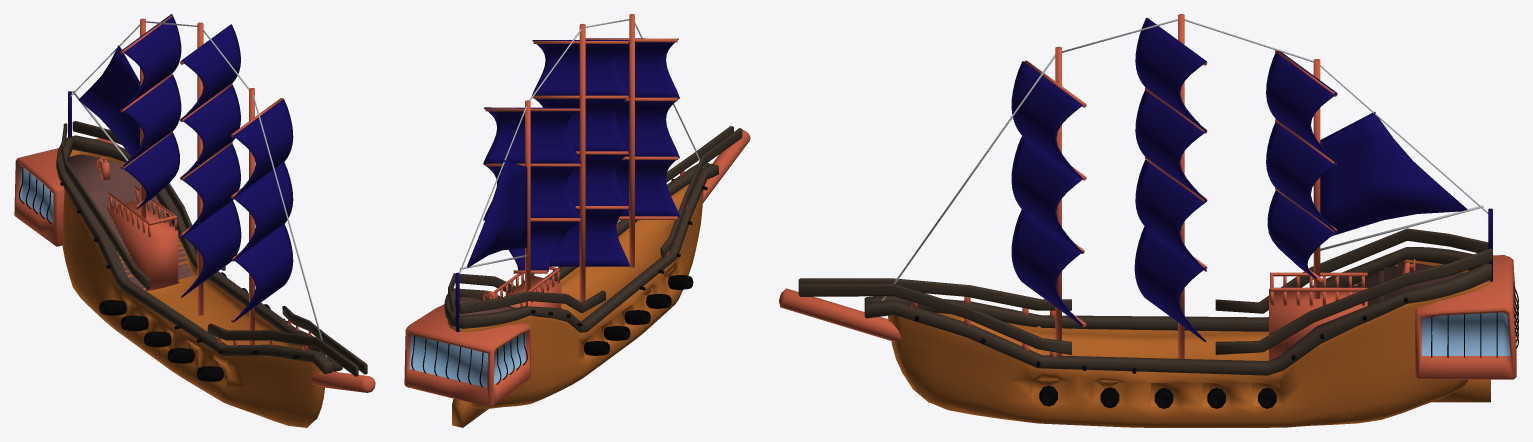
Rendered from bateau_toy.fbx.
The picture shows the model from 3 angles, left to right: view 1: azimuth 30°, elevation 25°; view 2: azimuth 150°, elevation 25°; view 3: azimuth 270°, elevation 25°; orthographic projection. The views are drawn at different scales.
Visible parts, largest first — view 1: bateau_toy; view 2: bateau_toy; view 3: bateau_toy.
Part boxes in pixels (x1,y1,x2,y2): bateau_toy: (14, 14, 375, 427); bateau_toy: (404, 14, 750, 427); bateau_toy: (779, 14, 1518, 427).
Bounding box in the file's own units: 10.92 × 27.72 × 47.18.
